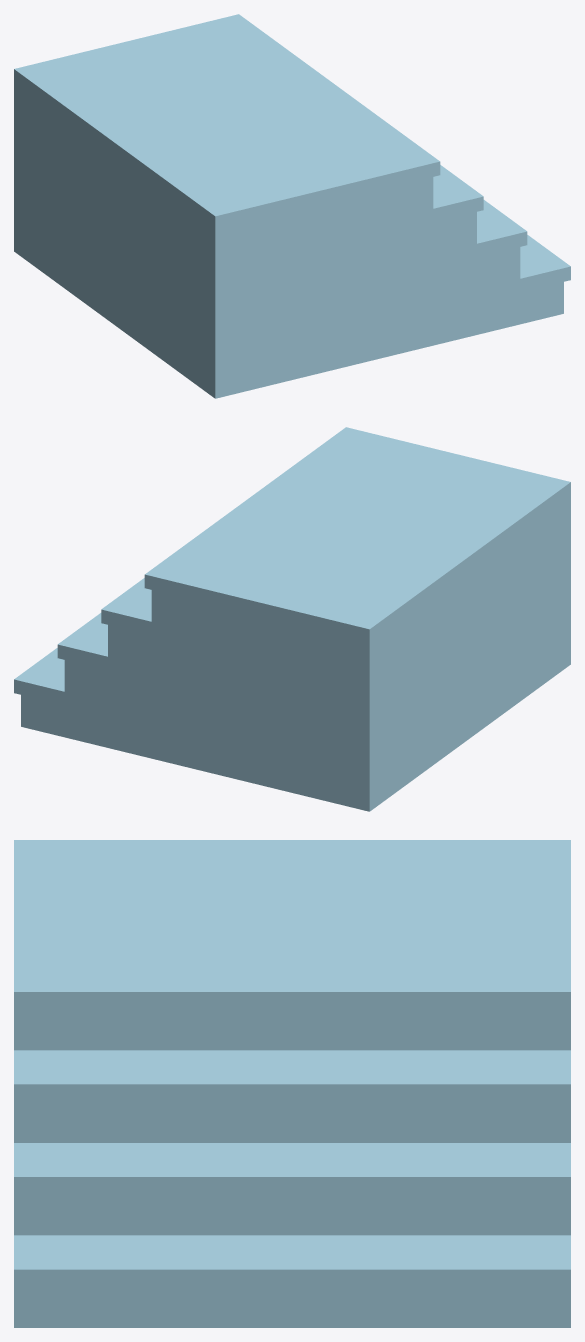
The model's file is stairsFull.glb.
3 views of the same model, one above another, from view 1: azimuth 30°, elevation 25°; view 2: azimuth 150°, elevation 25°; view 3: azimuth 270°, elevation 25° (orthographic). The views are drawn at different scales.
Visible parts, largest first — view 1: stairsFull; view 2: stairsFull; view 3: stairsFull.
Part boxes in pixels (bbox=[...]): stairsFull: bbox=[14, 14, 570, 398]; stairsFull: bbox=[14, 427, 570, 811]; stairsFull: bbox=[14, 840, 570, 1327].
Size of the model in its own units: 3.06 by 1.5 by 3.
